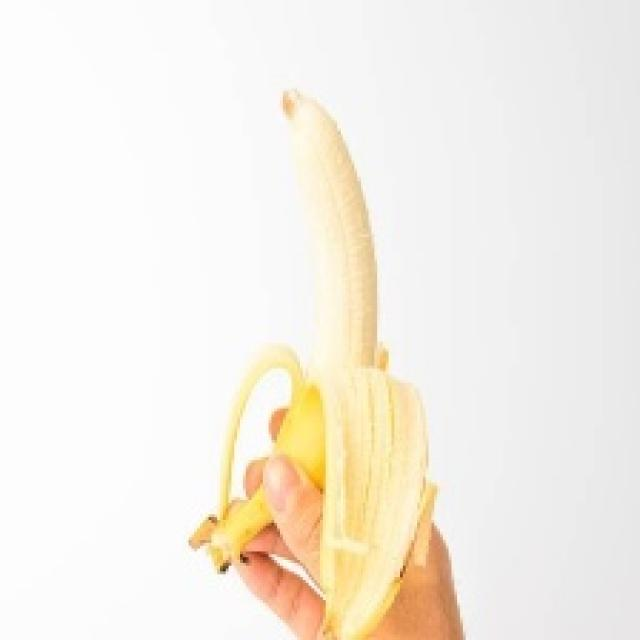Banana: (186, 86, 431, 637)
